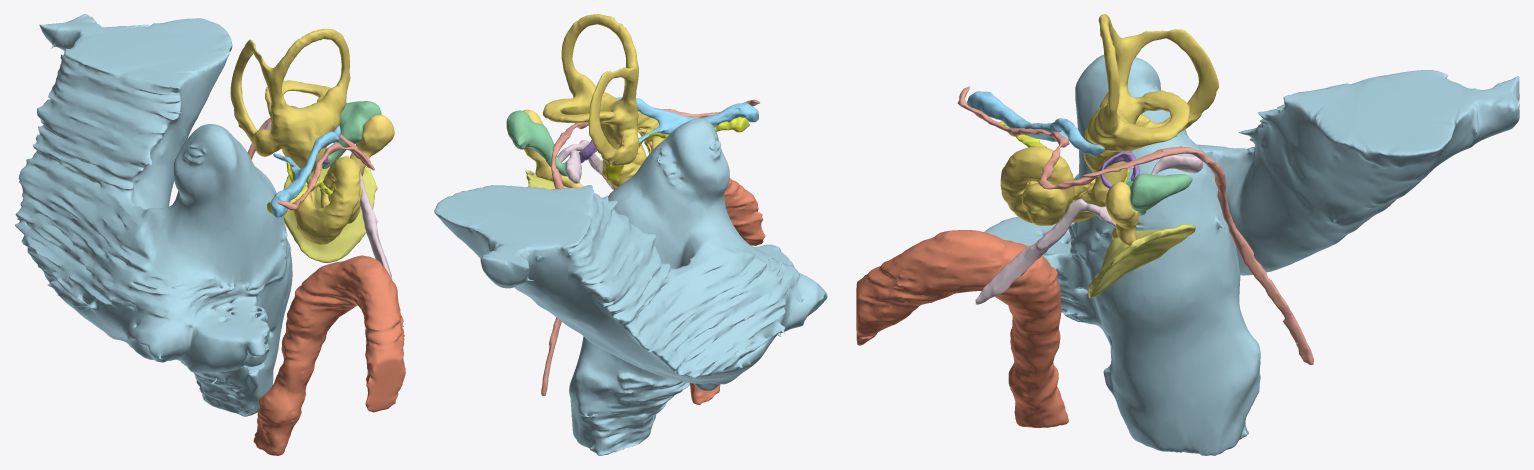
The model's file is openanatomy-inner-ear.glb.
3 views of the same model, side by side, from view 1: azimuth 30°, elevation 25°; view 2: azimuth 150°, elevation 25°; view 3: azimuth 270°, elevation 25° (orthographic). The views are drawn at different scales.
Visible parts, largest first — view 1: Internal Jugular Vein, Internal Carotid Artery, Labyrinth, Tympanic Membrane, Vestibular Nerve, Incus Bone, Malleus Bone, Facial Nerve, Tensor Tympani Muscle; view 2: Internal Jugular Vein, Labyrinth, Internal Carotid Artery, Vestibular Nerve, Incus Bone, Facial Nerve, Malleus Bone, Tensor Tympani Muscle, Cochlear Nerve, Stapedius Muscle; view 3: Internal Jugular Vein, Internal Carotid Artery, Labyrinth, Facial Nerve, Tympanic Membrane, Tensor Tympani Muscle, Vestibular Nerve, Incus Bone, Malleus Bone, Stapedius Muscle.
Part boxes in pixels (x1,y1,x2,y2): Internal Jugular Vein: [14, 14, 292, 416]; Internal Carotid Artery: [253, 255, 405, 455]; Labyrinth: [230, 28, 362, 244]; Tympanic Membrane: [283, 155, 377, 262]; Vestibular Nerve: [270, 125, 340, 217]; Incus Bone: [321, 101, 381, 168]; Malleus Bone: [350, 114, 394, 175]; Facial Nerve: [247, 105, 374, 210]; Tensor Tympani Muscle: [357, 164, 392, 279]; Internal Jugular Vein: [434, 118, 827, 455]; Labyrinth: [543, 14, 665, 188]; Internal Carotid Artery: [690, 178, 765, 404]; Vestibular Nerve: [616, 97, 758, 143]; Incus Bone: [506, 110, 567, 176]; Facial Nerve: [541, 99, 759, 395]; Malleus Bone: [523, 109, 583, 187]; Tensor Tympani Muscle: [557, 140, 615, 189]; Cochlear Nerve: [639, 117, 749, 147]; Stapedius Muscle: [565, 149, 581, 183]; Internal Jugular Vein: [984, 54, 1519, 455]; Internal Carotid Artery: [856, 230, 1068, 427]; Labyrinth: [1000, 14, 1218, 225]; Facial Nerve: [957, 86, 1313, 364]; Tympanic Membrane: [1088, 224, 1195, 298]; Tensor Tympani Muscle: [975, 199, 1115, 304]; Vestibular Nerve: [967, 91, 1104, 156]; Incus Bone: [1126, 173, 1193, 215]; Malleus Bone: [1105, 182, 1139, 245]; Stapedius Muscle: [1151, 154, 1203, 175].
Bounding box in the file's own units: 0.0958 × 0.1186 × 0.1592.
